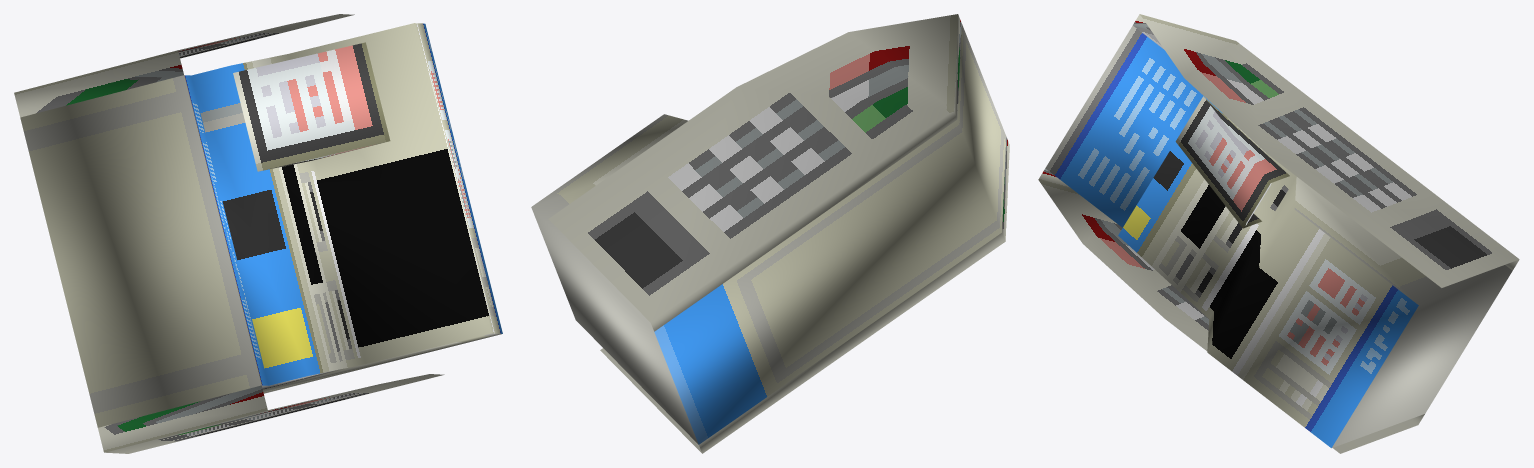
The picture shows the model from 3 angles, left to right: view 1: azimuth 30°, elevation 25°; view 2: azimuth 150°, elevation 25°; view 3: azimuth 270°, elevation 25°; orthographic projection. The views are drawn at different scales.
Visible parts, largest first — view 1: 3400IMIG19_08; view 2: 3400IMIG19_08; view 3: 3400IMIG19_08.
Boxes of the visible parts, bbox=[...] form: 3400IMIG19_08: bbox=[14, 14, 502, 453]; 3400IMIG19_08: bbox=[531, 14, 1009, 453]; 3400IMIG19_08: bbox=[1038, 14, 1519, 453].
Size of the model in its own units: 1.69 by 1.78 by 2.18.
5 materials, 5 textured.
